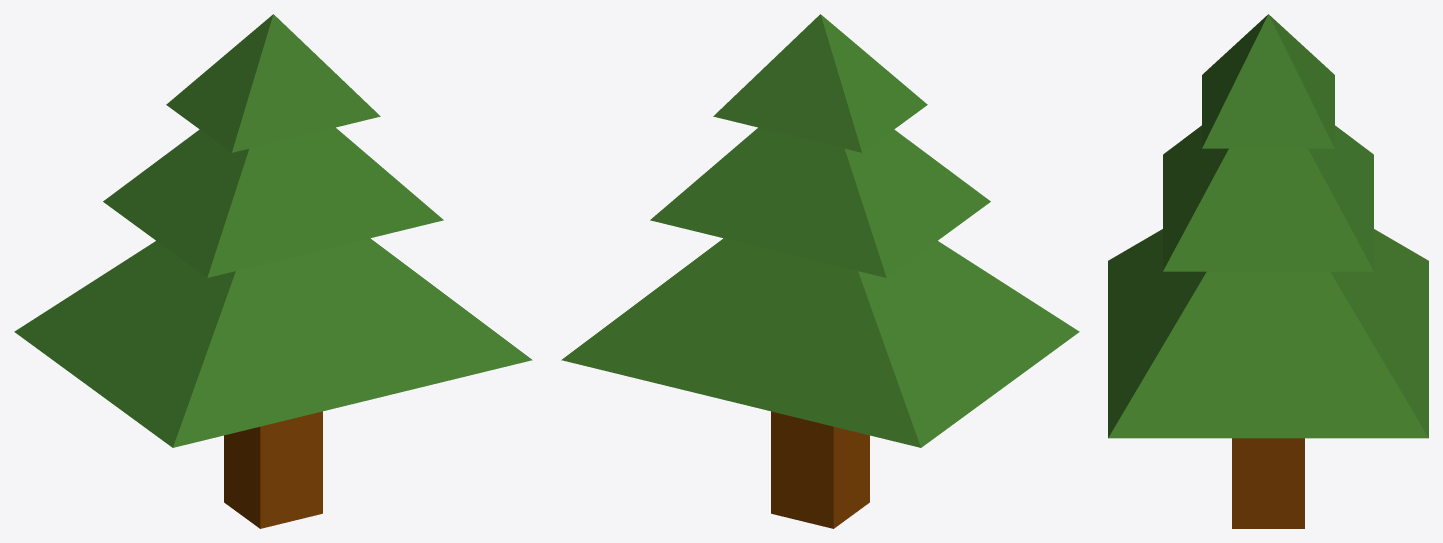
The model's file is Tree.fbx.
3 renders of one model, left to right at view 1: azimuth 30°, elevation 25°; view 2: azimuth 150°, elevation 25°; view 3: azimuth 270°, elevation 25°, orthographic.
Parts seen in each view (by area): view 1: Tree; view 2: Tree; view 3: Tree.
Boxes of the visible parts, x1,y1,x2,y2 form: Tree: [14, 14, 532, 528]; Tree: [561, 14, 1079, 528]; Tree: [1108, 14, 1428, 528].
Size of the model in its own units: 4.02 by 5.27 by 3.07.
